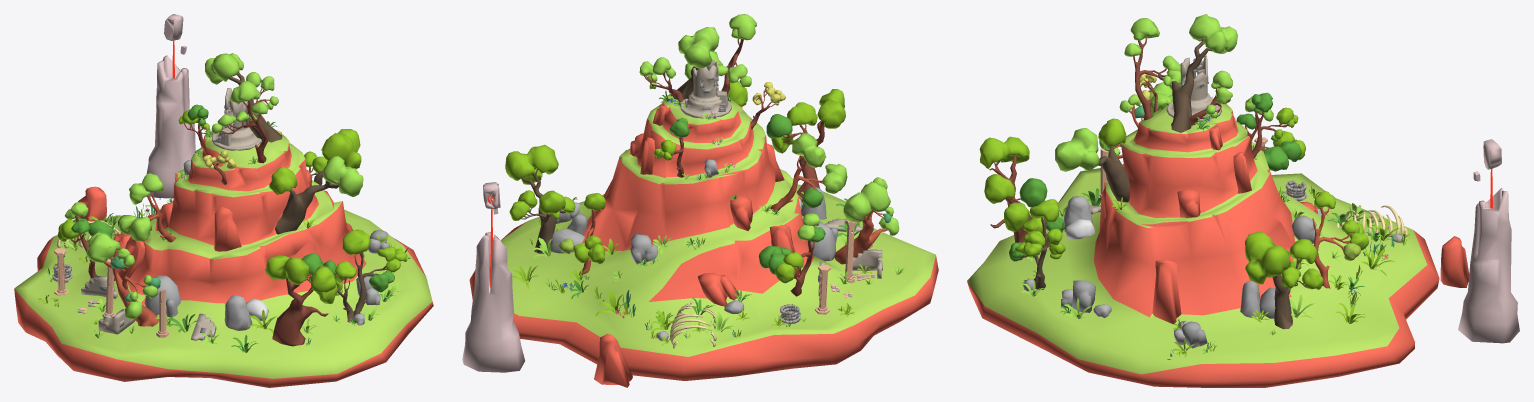
Rendered from islands1-BhiesQ_J.glb.
3 renders of one model, left to right at view 1: azimuth 30°, elevation 25°; view 2: azimuth 150°, elevation 25°; view 3: azimuth 270°, elevation 25°, orthographic. The views are drawn at different scales.
Visible parts, largest first — view 1: Plane.014, Cylinder.009, Cube.016, Cube.070, Cylinder.002, Mball.005, Mball.112, Mball.021, Mball.004, Cube.076, Mball.001, Icosphere.003 (+22 smaller); view 2: Plane.014, Cylinder.009, Cylinder.002, Mball.005, Cube.080, Mball.035, Mball.001, Mball.112, Mball.004, Cube.013, Mball.061, Cube.038 (+18 smaller); view 3: Plane.014, Cylinder.009, Mball.005, Cube.077, Mball.021, Cube.015, Mball.001, Cube.080, Mball.004, Cylinder.002, Mball.112, Cube.070 (+21 smaller).
Boxes of the visible parts, x1=… form: Plane.014: x1=14, y1=130, x2=433, y2=387; Cylinder.009: x1=146, y1=55, x2=195, y2=198; Cube.016: x1=272, y1=276, x2=328, y2=346; Cube.070: x1=275, y1=181, x2=338, y2=234; Cylinder.002: x1=212, y1=88, x2=261, y2=150; Mball.005: x1=321, y1=129, x2=361, y2=168; Mball.112: x1=211, y1=81, x2=268, y2=133; Mball.021: x1=323, y1=156, x2=363, y2=196; Mball.004: x1=265, y1=255, x2=309, y2=284; Cube.076: x1=214, y1=206, x2=241, y2=251; Mball.001: x1=205, y1=53, x2=243, y2=84; Icosphere.003: x1=224, y1=295, x2=252, y2=330; Plane.014: x1=469, y1=91, x2=938, y2=380; Cylinder.009: x1=462, y1=232, x2=524, y2=372; Cylinder.002: x1=680, y1=59, x2=731, y2=118; Mball.005: x1=505, y1=144, x2=558, y2=184; Cube.080: x1=594, y1=333, x2=632, y2=387; Mball.035: x1=843, y1=181, x2=890, y2=221; Mball.001: x1=678, y1=27, x2=719, y2=68; Mball.112: x1=718, y1=14, x2=756, y2=87; Mball.004: x1=817, y1=89, x2=845, y2=128; Cube.013: x1=834, y1=210, x2=887, y2=264; Mball.061: x1=792, y1=133, x2=826, y2=167; Cube.038: x1=522, y1=169, x2=565, y2=253; Plane.014: x1=967, y1=99, x2=1439, y2=387; Cylinder.009: x1=1458, y1=188, x2=1519, y2=343; Mball.005: x1=1245, y1=231, x2=1290, y2=284; Cube.077: x1=1152, y1=260, x2=1181, y2=323; Mball.021: x1=1055, y1=128, x2=1100, y2=171; Cube.015: x1=1158, y1=38, x2=1212, y2=132; Mball.001: x1=1189, y1=14, x2=1237, y2=53; Cube.080: x1=1440, y1=236, x2=1469, y2=287; Mball.004: x1=979, y1=136, x2=1029, y2=168; Cylinder.002: x1=1166, y1=55, x2=1221, y2=122; Mball.112: x1=1124, y1=18, x2=1181, y2=86; Cube.070: x1=1098, y1=145, x2=1129, y2=202.
Size of the model in its own units: 142 by 94.32 by 165.
